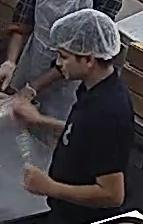no_apron: (46, 61, 123, 178)
